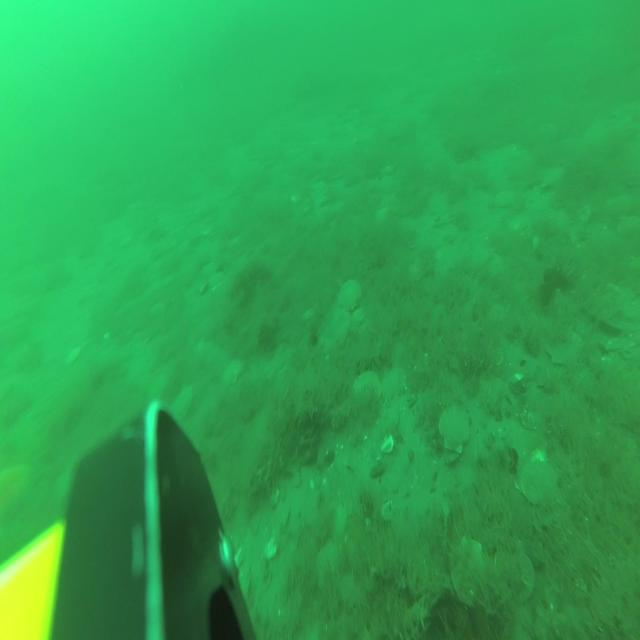scallop: (449, 531, 492, 609), (493, 539, 537, 606), (520, 458, 562, 509), (439, 404, 470, 456), (352, 369, 383, 410), (544, 333, 578, 368), (338, 275, 364, 313), (173, 383, 194, 422), (222, 357, 244, 388)
starfish: (0, 455, 36, 525)
